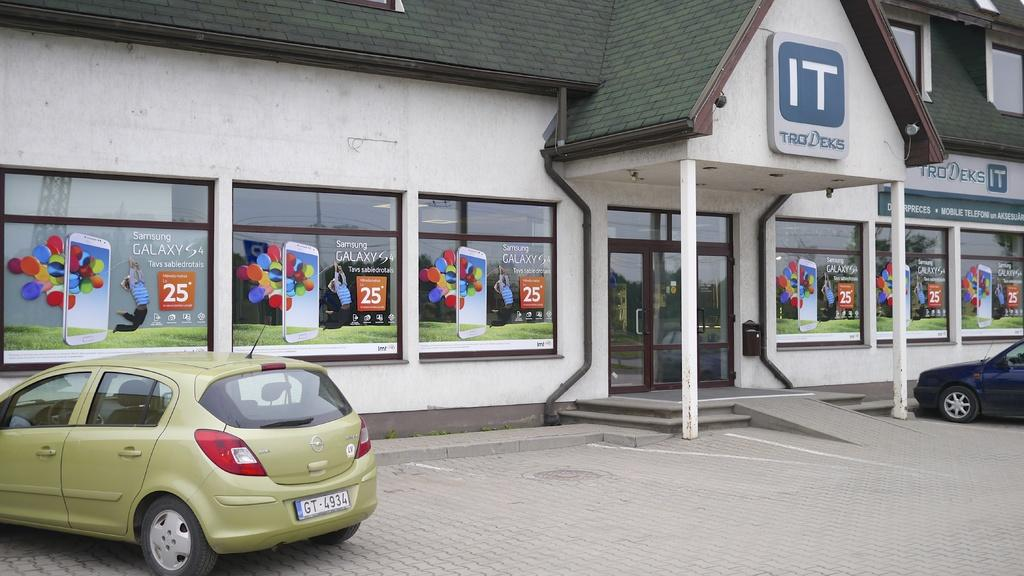vehicle: (0, 350, 377, 574), (915, 342, 1023, 422)
